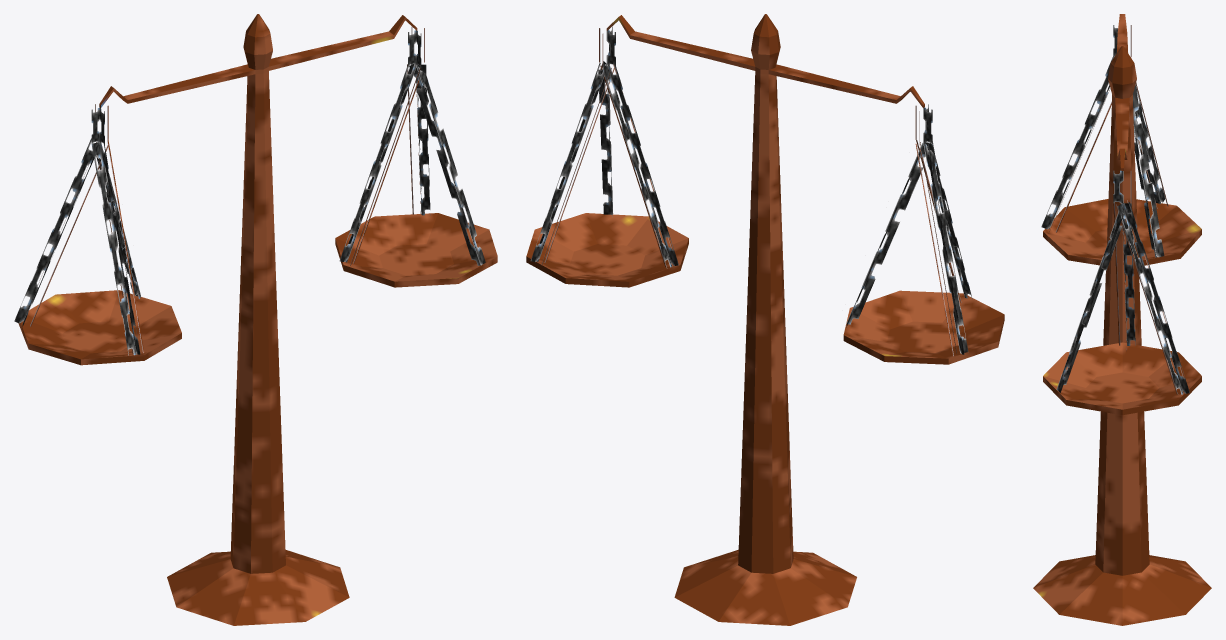
File: SM_Dungeon_Scale.fbx
The picture shows the model from 3 angles, left to right: view 1: azimuth 30°, elevation 25°; view 2: azimuth 150°, elevation 25°; view 3: azimuth 270°, elevation 25°; orthographic projection. The views are drawn at different scales.
Parts seen in each view (by area): view 1: SM_Dungeon_Scale; view 2: SM_Dungeon_Scale; view 3: SM_Dungeon_Scale.
Boxes of the visible parts, bbox=[...] form: SM_Dungeon_Scale: bbox=[14, 14, 497, 625]; SM_Dungeon_Scale: bbox=[526, 14, 1004, 625]; SM_Dungeon_Scale: bbox=[1033, 14, 1211, 625].
Size of the model in its own units: 76.64 by 90.77 by 27.17.
